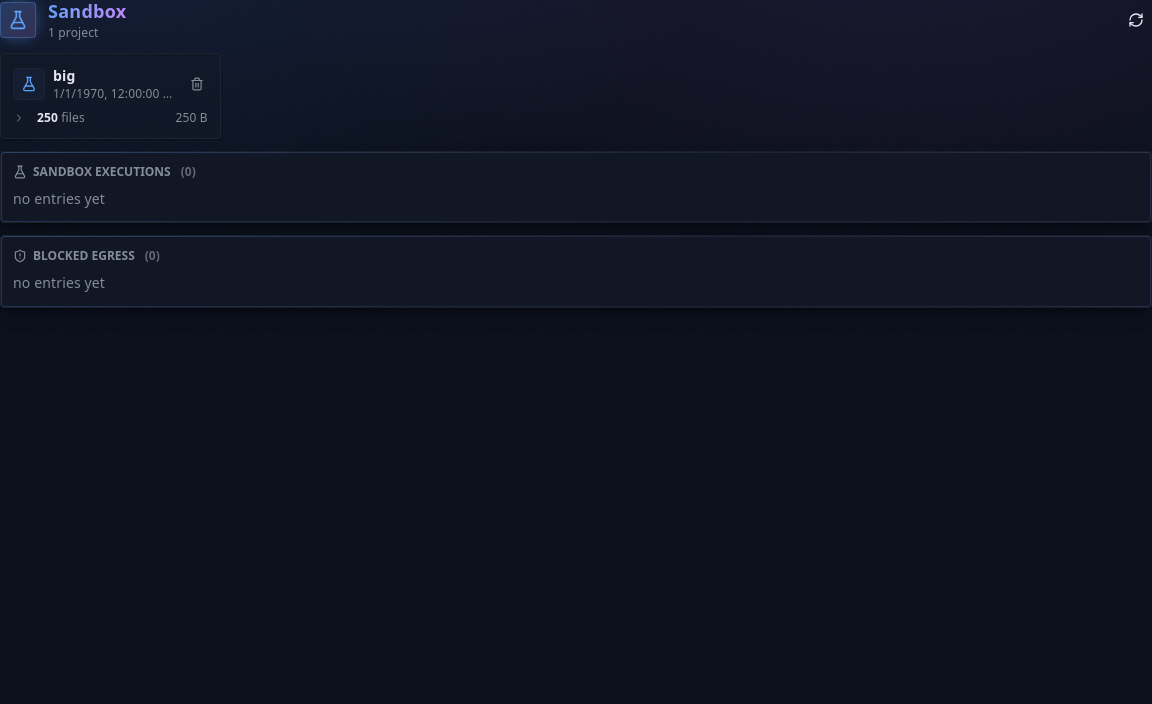
Sandbox file windowing › windows a huge project instead of rendering every row
Click the button "big" at (115, 76), box 53,66 -> 178,86
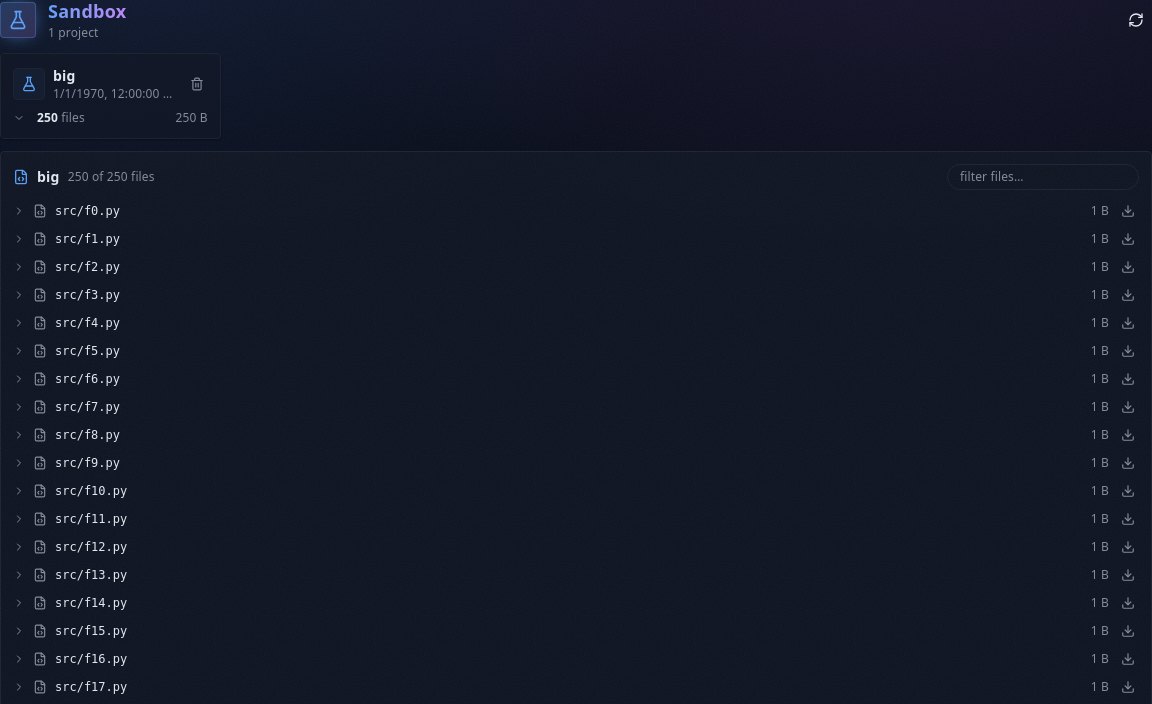
Check: the text "src/f0.py" is shown, box 55,202 -> 120,218
Check: the text "250 of 250 files" is shown, box 68,168 -> 155,184
